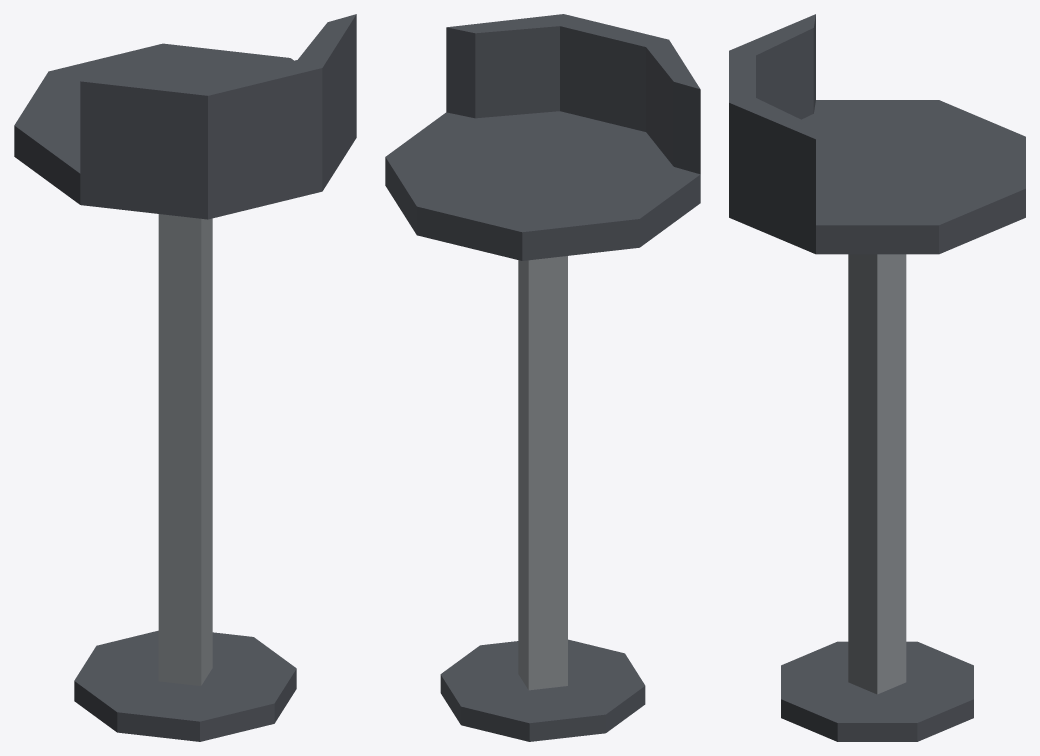
File: Kitchen_Chair_3.fbx
The picture shows the model from 3 angles, left to right: view 1: azimuth 30°, elevation 25°; view 2: azimuth 150°, elevation 25°; view 3: azimuth 270°, elevation 25°; orthographic projection. The views are drawn at different scales.
Visible parts, largest first — view 1: polySurface1793; view 2: polySurface1793; view 3: polySurface1793.
Boxes of the visible parts, x1,y1,x2,y2 form: polySurface1793: (14,14,356,741); polySurface1793: (385,14,700,741); polySurface1793: (729,14,1025,741).
Bounding box in the file's own units: 0.4619 × 1.07 × 0.4619.
1 material, 1 textured.
